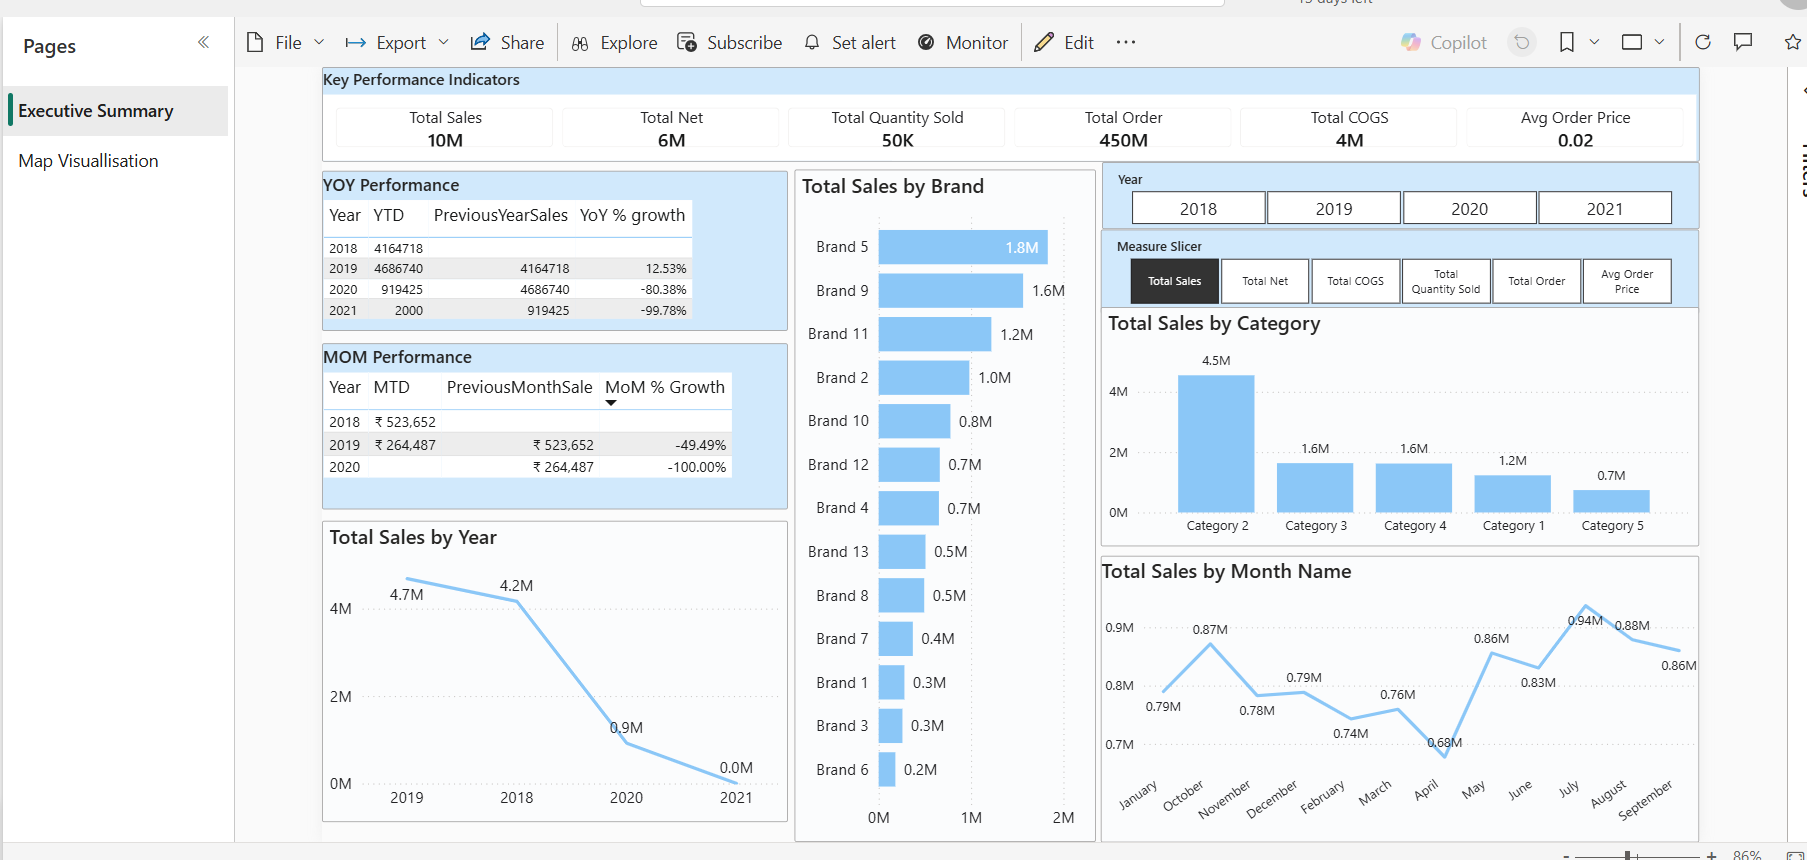

Layout of this report page (visuals, bound fields, positions):
{"tool":"powerbi","page":{"name":"Executive Summary","canvas":[1280,720],"ordinal":0},"visuals":[{"type":"lineChart","fields":{"Category":["Date.Month Name"],"Y":["Measure Table.Total Sales"]},"box":[724,454,556,266.2],"z":0},{"type":"tableEx","title":"YOY Performance","fields":{"Values":["Date.Year","Measure Table.YTD","Measure Table.PreviousYearSales","Measure Table.YoY % growth"]},"box":[0,96.7,432.8,148.6],"z":1000},{"type":"cardVisual","title":"Key Performance Indicators","fields":{"Data":["Measure Table.Total Sales","Measure Table.Total Net","Measure Table.Total Quantity Sold","Measure Table.Total Order","Measure Table.Total COGS","Measure Table.Avg Order Price"]},"box":[0,0,1279.7,88],"z":2000},{"type":"slicer","fields":{"Values":["Date.Year"]},"box":[724.3,88,555.5,62],"z":3000},{"type":"tableEx","title":"MOM Performance","fields":{"Values":["Date.Year","Measure Table.MTD","Measure Table.PreviousMonthSale","Measure Table.MoM"]},"box":[0,256.8,432.8,154.4],"z":4000},{"type":"lineChart","fields":{"Category":["Date.Year"],"Y":["Measure Table.Total Sales"]},"box":[0,421.3,432.8,279.9],"z":5000},{"type":"clusteredBarChart","fields":{"Category":["item.Brand"],"Y":["Measure Table.Total Sales"]},"box":[438.6,95.2,279.9,624.7],"z":6000},{"type":"slicer","fields":{"Values":["Measure Slicer.Measure Slicer"]},"box":[724,150.5,556,78.4],"z":7000},{"type":"columnChart","fields":{"Category":["item.Category"],"Y":["Measure Table.Total Sales"]},"box":[724,222.7,556,222.7],"z":8000}]}

Visuals, with their boxes on the page's 1280x720 design canvas (x1, y1, x2, y2). These are canvas units, not pixel positions in the 1807x860 screenshot, which may show the page scaled, cropped or inside an application window:
lineChart - Date.Month Name x Measure Table.Total Sales: region(724, 454, 1280, 720)
"YOY Performance" tableEx: region(0, 97, 433, 245)
"Key Performance Indicators" cardVisual: region(0, 0, 1280, 88)
slicer - Date.Year: region(724, 88, 1280, 150)
"MOM Performance" tableEx: region(0, 257, 433, 411)
lineChart - Date.Year x Measure Table.Total Sales: region(0, 421, 433, 701)
clusteredBarChart - item.Brand x Measure Table.Total Sales: region(439, 95, 718, 720)
slicer - Measure Slicer.Measure Slicer: region(724, 150, 1280, 229)
columnChart - item.Category x Measure Table.Total Sales: region(724, 223, 1280, 445)
